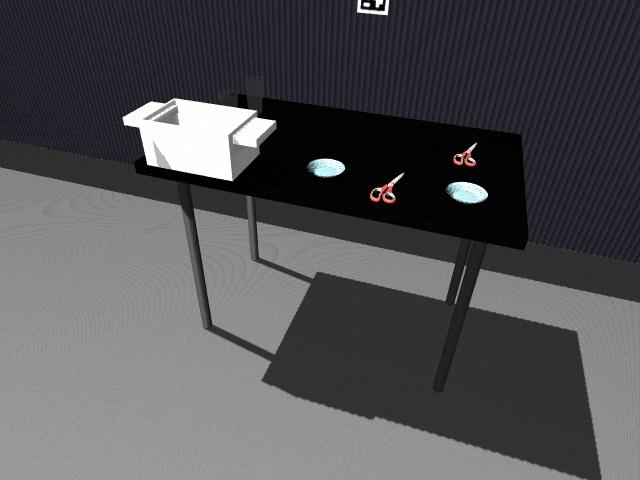cup: (243, 76, 265, 112), (217, 89, 238, 108)
plate: (444, 180, 491, 205), (306, 157, 346, 178)
scissors: (367, 171, 403, 204), (452, 142, 477, 167)
